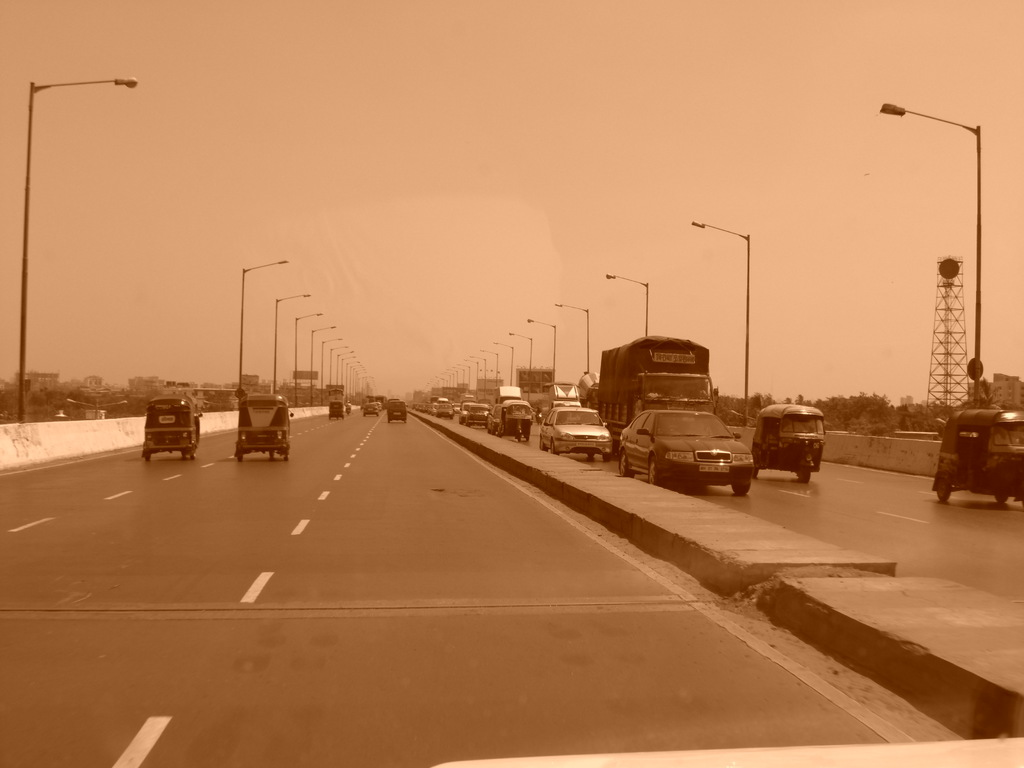Car: (615, 403, 760, 500), (539, 401, 609, 455)
